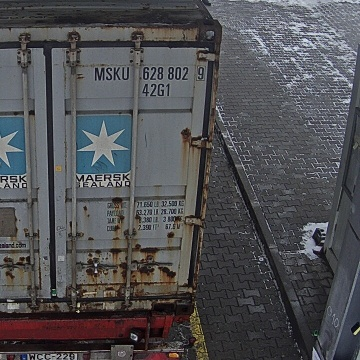serial_id: (95, 67, 204, 80)
